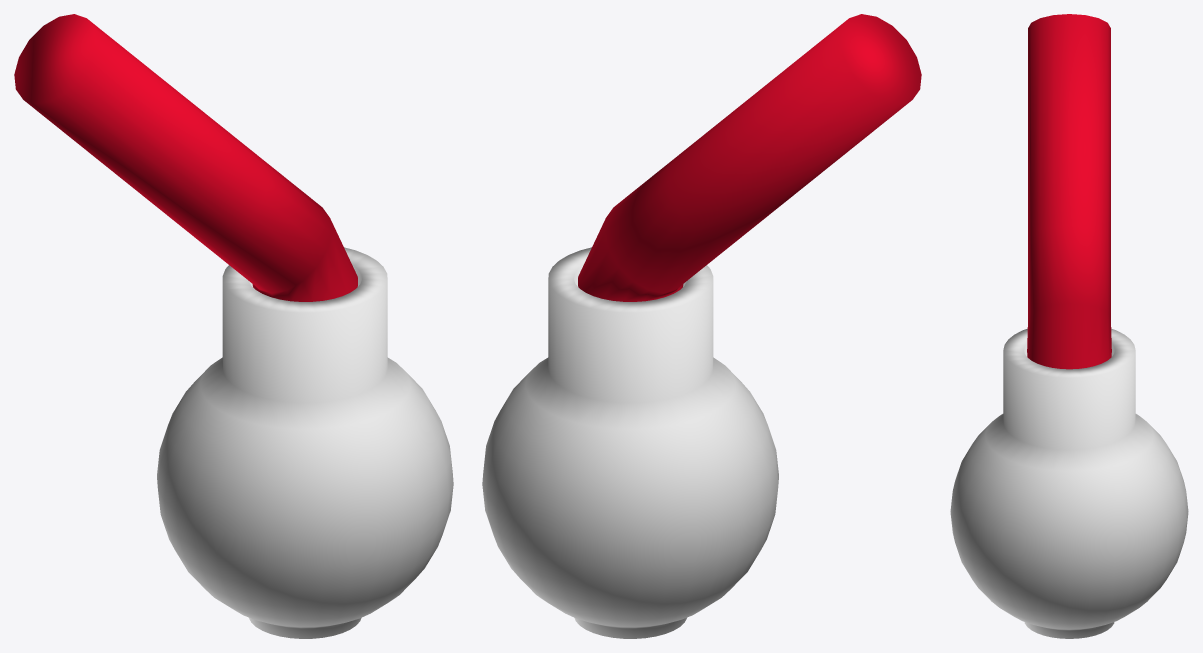
Rendered from PotionOpen.fbx.
The picture shows the model from 3 angles, left to right: view 1: azimuth 30°, elevation 25°; view 2: azimuth 150°, elevation 25°; view 3: azimuth 270°, elevation 25°; orthographic projection. The views are drawn at different scales.
Parts seen in each view (by area): view 1: PotionOpen; view 2: PotionOpen; view 3: PotionOpen.
Boxes of the visible parts, left/top/right/bottom form: PotionOpen: left=14, top=14, right=453, bottom=638; PotionOpen: left=482, top=14, right=921, bottom=638; PotionOpen: left=950, top=14, right=1188, bottom=638.
Size of the model in its own units: 287 by 434 by 180.
